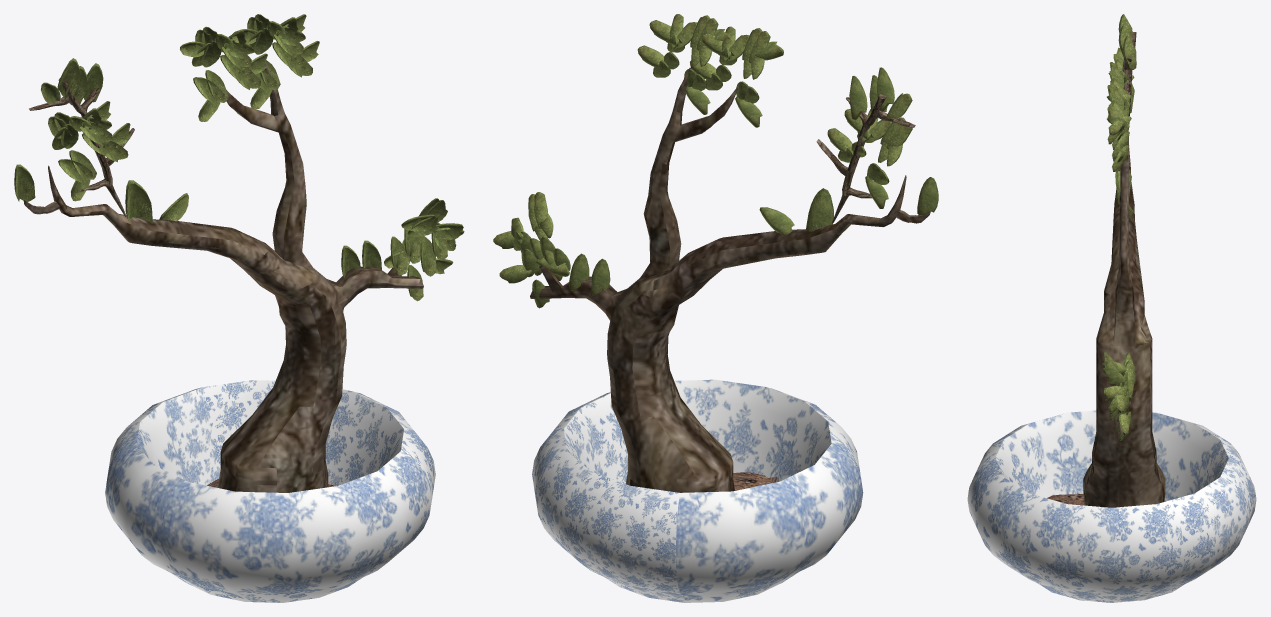
Rendered from bonsai.fbx.
3 renders of one model, left to right at view 1: azimuth 30°, elevation 25°; view 2: azimuth 150°, elevation 25°; view 3: azimuth 270°, elevation 25°, orthographic. The views are drawn at different scales.
Parts seen in each view (by area): view 1: pot, pCylinder176, pCylinder81, pCylinder88, pCylinder89; view 2: pot, pCylinder176, pCylinder81, pCylinder88, pCylinder89, pCylinder181; view 3: pot, pCylinder176.
Part boxes in pixels (x1=…): pot: x1=105, y1=380, x2=435, y2=602; pCylinder176: x1=23, y1=61, x2=423, y2=492; pCylinder81: x1=29, y1=78, x2=134, y2=216; pCylinder88: x1=125, y1=180, x2=152, y2=224; pCylinder89: x1=14, y1=164, x2=35, y2=201; pot: x1=532, y1=379, x2=863, y2=602; pCylinder176: x1=530, y1=67, x2=930, y2=492; pCylinder81: x1=816, y1=94, x2=915, y2=223; pCylinder88: x1=806, y1=188, x2=833, y2=231; pCylinder89: x1=917, y1=177, x2=938, y2=215; pCylinder181: x1=849, y1=76, x2=867, y2=120; pot: x1=967, y1=410, x2=1256, y2=602; pCylinder176: x1=1083, y1=138, x2=1165, y2=507.
Size of the model in its own units: 386 by 458 by 250.
